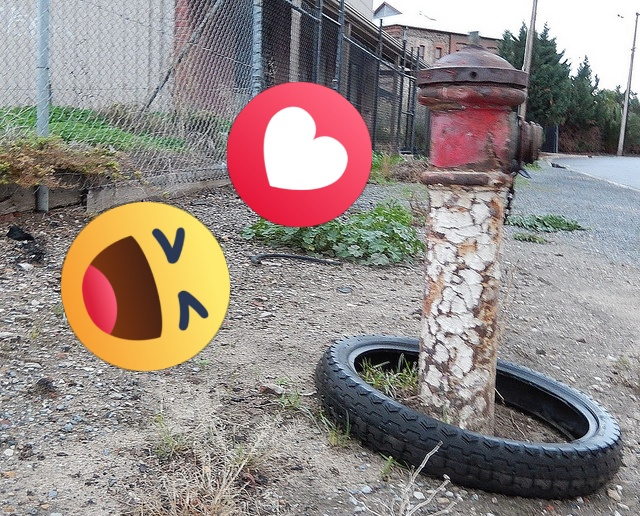haha: (61, 202, 230, 371)
love: (227, 82, 372, 227)
